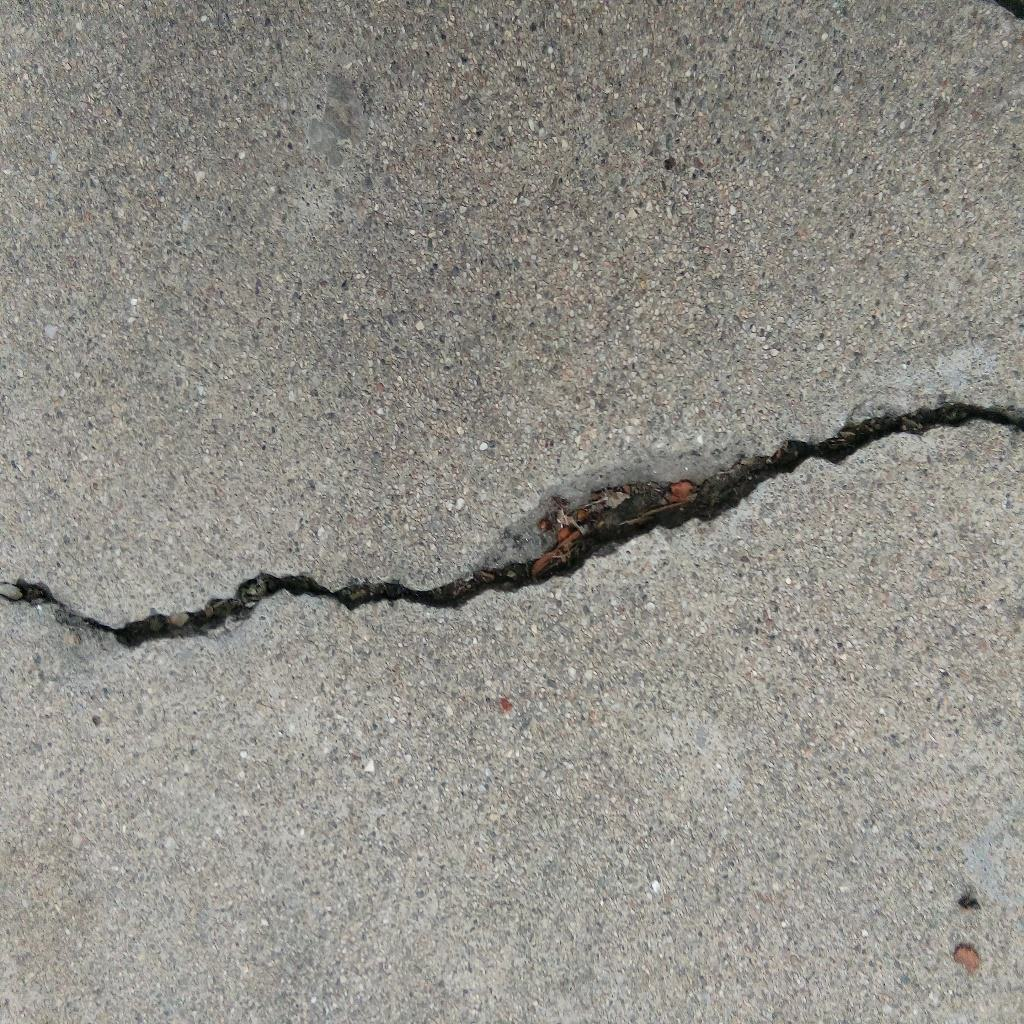Crack: (1, 401, 1024, 652)
